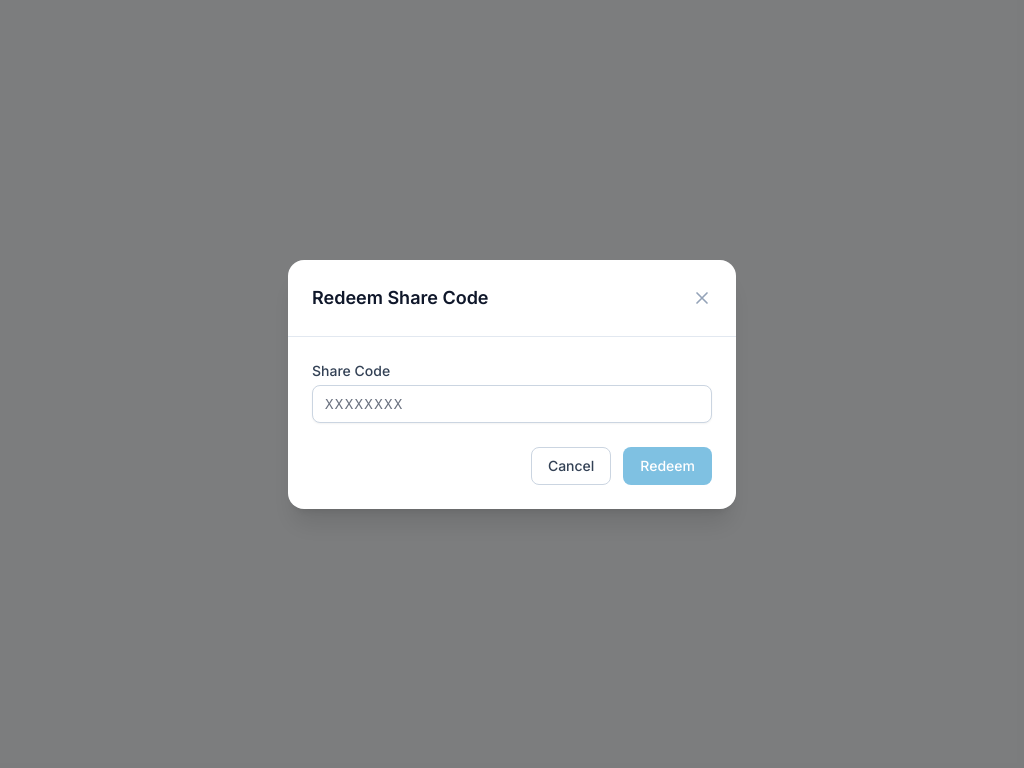
Test: RedeemCodeModal › successful redemption › shows playlist name after success
This screenshot has width=1024, height=768.
In the field with id "share-code": (512, 404) [312, 384, 712, 422], type "TESTCODE"
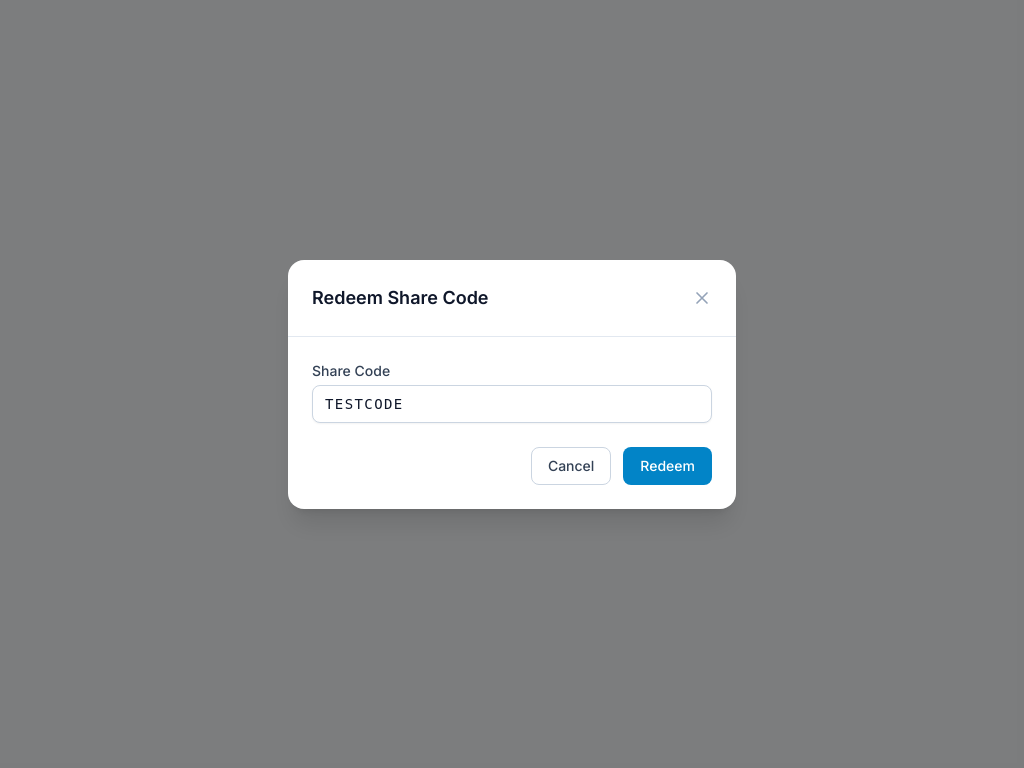
Submit the form, box [288, 336, 736, 508]
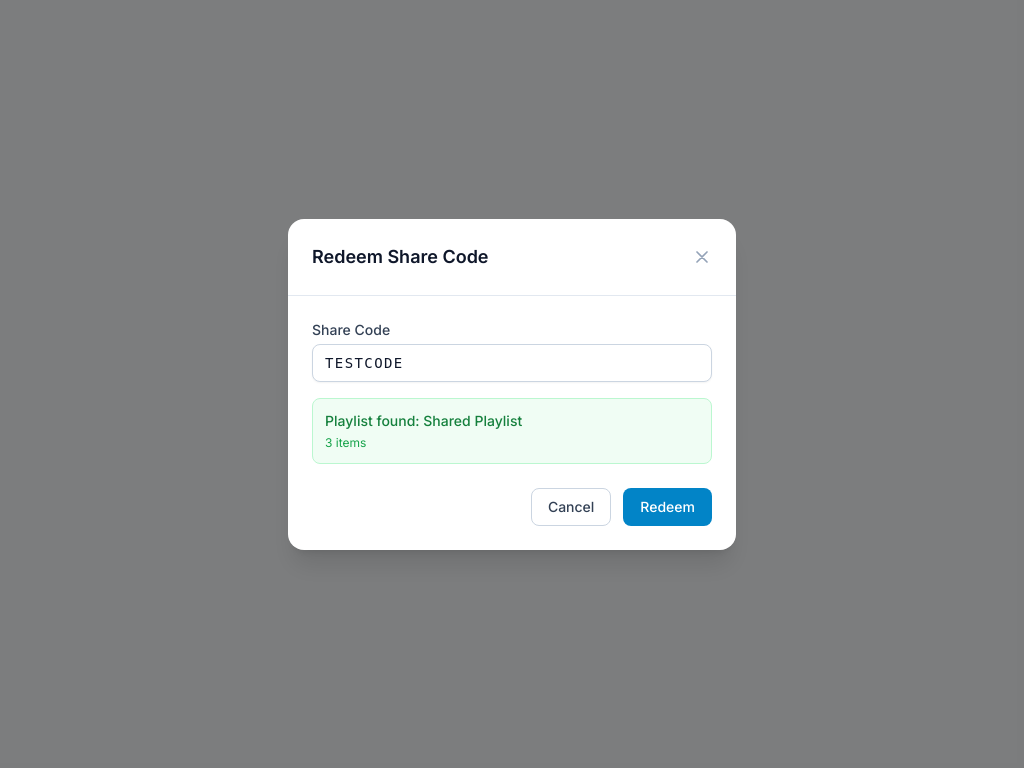
Expected: the text "Shared Playlist" is shown, [325, 412, 522, 428]
